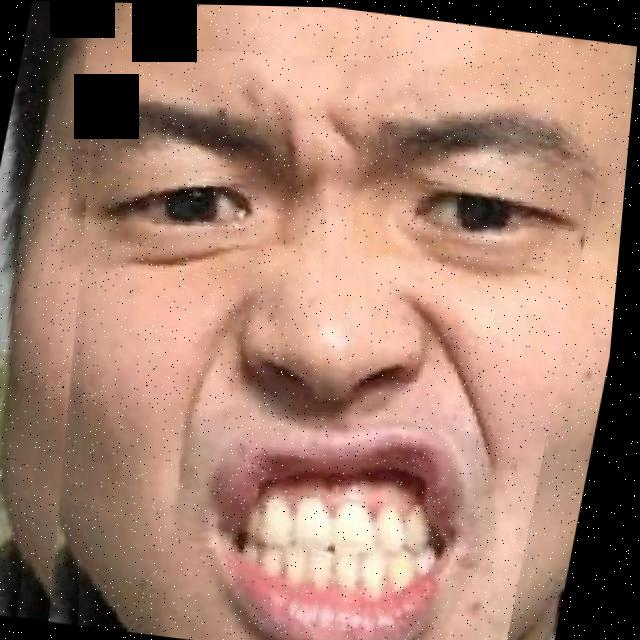anger: (0, 15, 620, 640)
